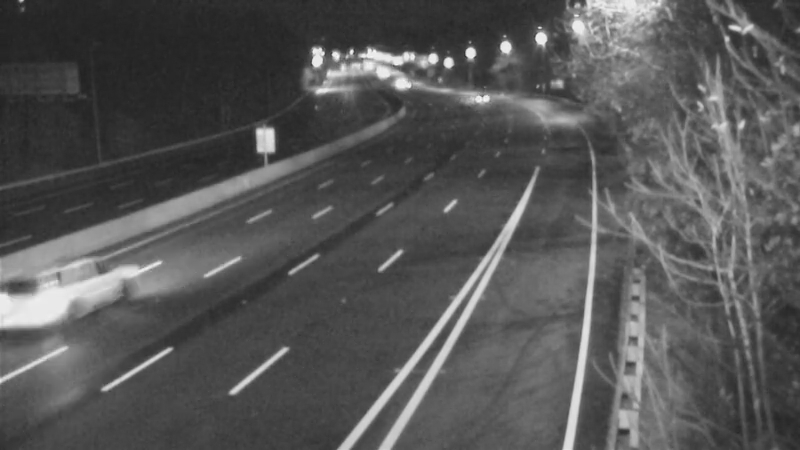vehicle: (30, 252, 110, 332), (451, 75, 501, 125)
